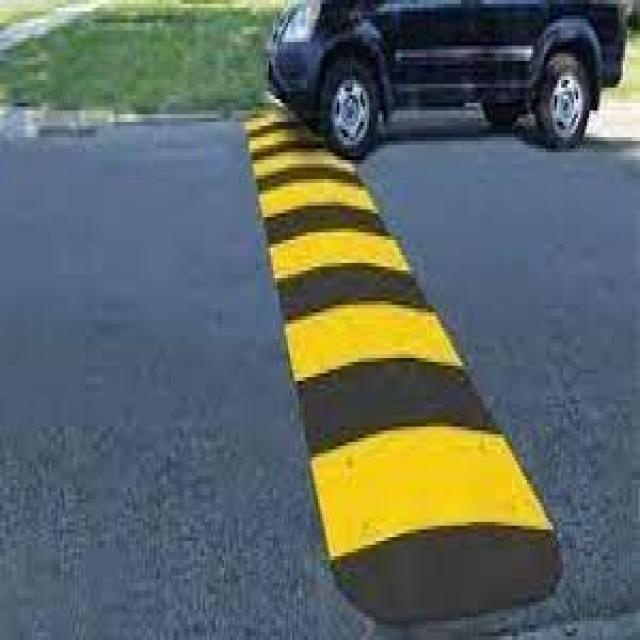Marked Bump: (230, 116, 567, 612)
